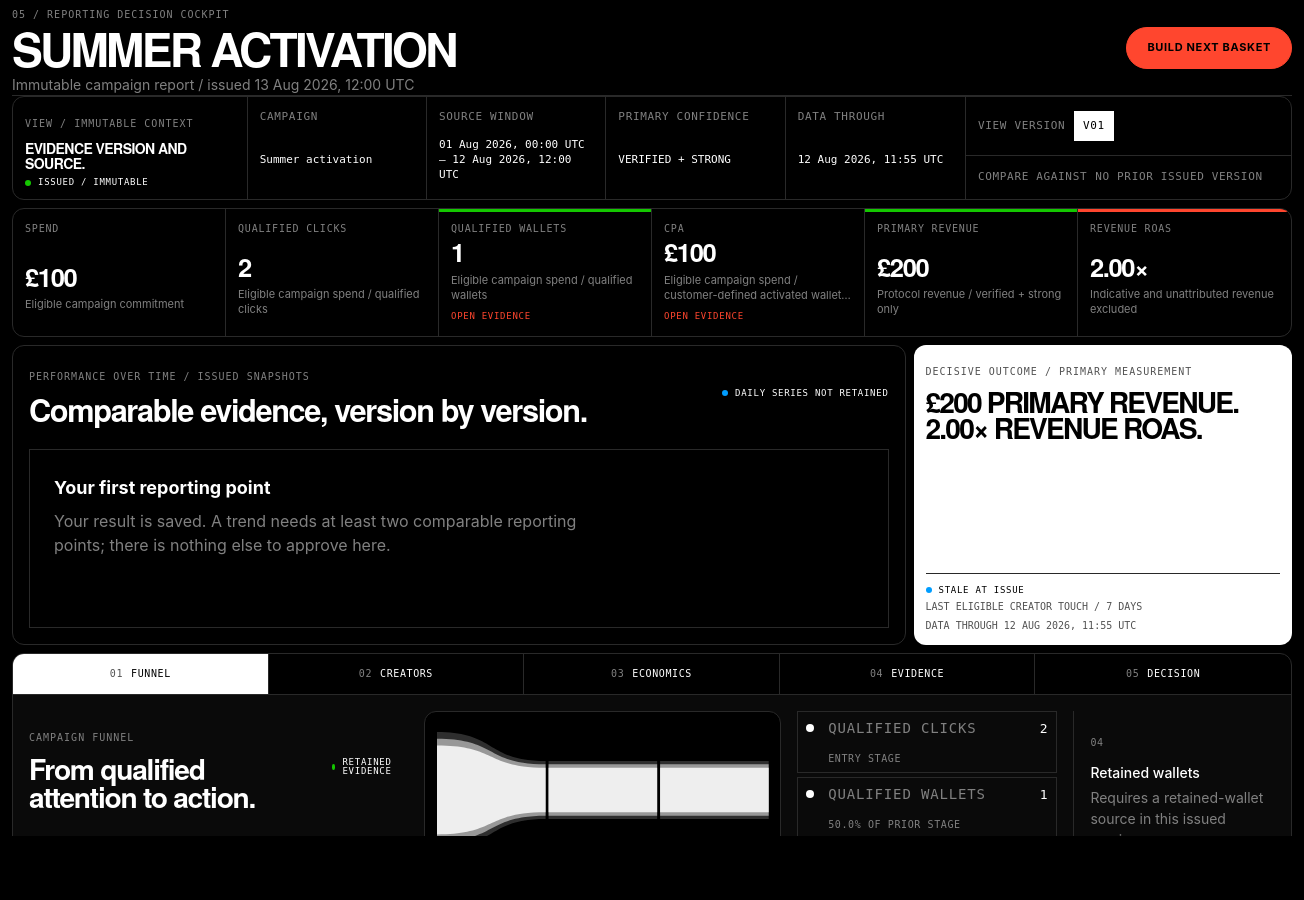
Test: performance report › ranks creators only from retained attribution evidence
The width and height of the screenshot is (1304, 900).
Click the tab "02 Creators" at (396, 674), box x1=269 y1=654 x2=524 y2=694
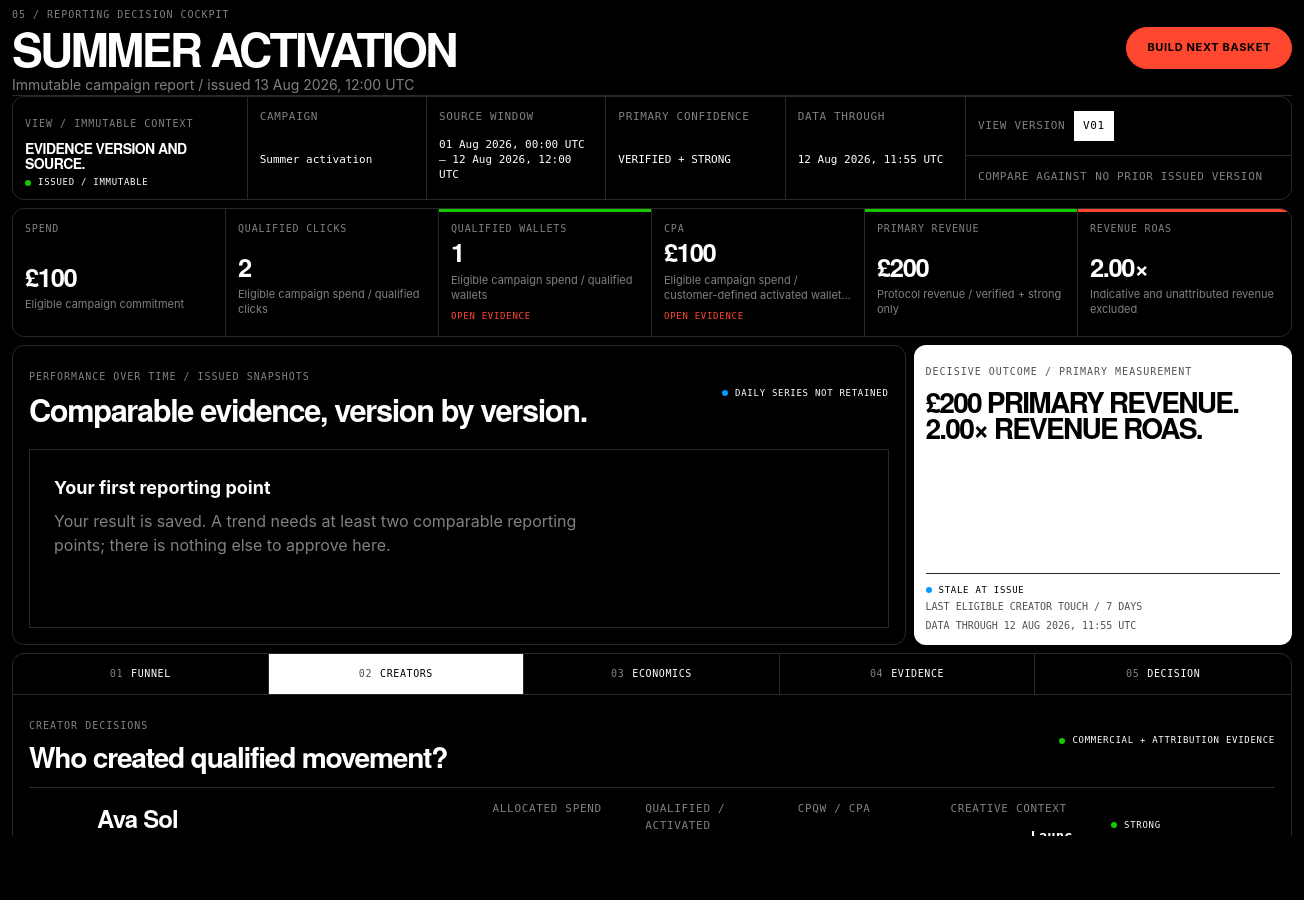
Expected: the text "Ava Sol" is shown, x1=97 y1=801 x2=178 y2=835
